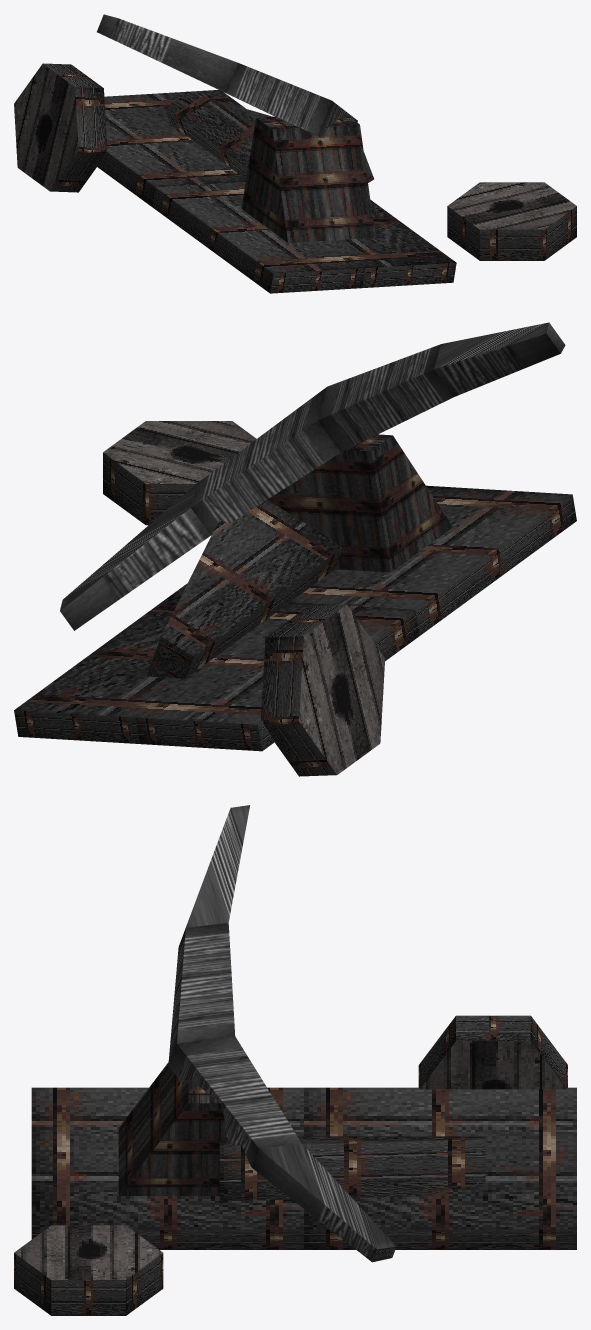
The model's file is DCat.fbx.
3 views of the same model, one above another, from view 1: azimuth 30°, elevation 25°; view 2: azimuth 150°, elevation 25°; view 3: azimuth 270°, elevation 25° (orthographic). The views are drawn at different scales.
Parts seen in each view (by area): view 1: DCAT; view 2: DCAT; view 3: DCAT.
Part boxes in pixels (x1,y1,x2,y2): DCAT: (14,14,576,293); DCAT: (14,322,576,776); DCAT: (14,805,576,1315).
Bounding box in the file's own units: 10.64 × 6.73 × 11.36.
